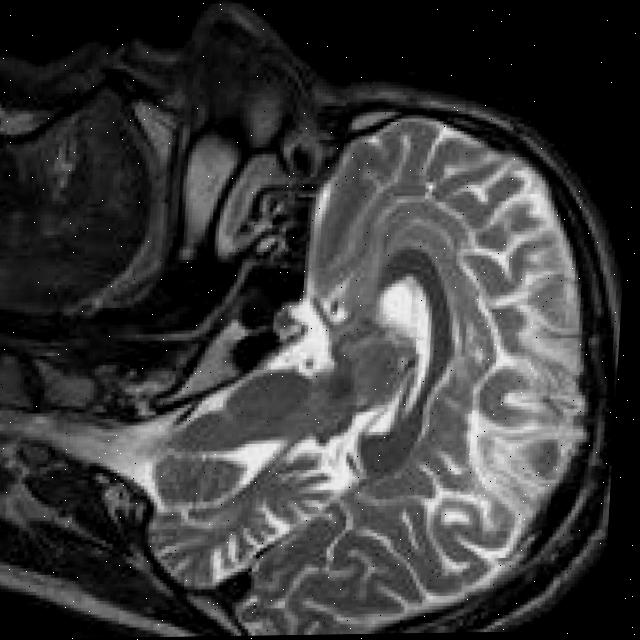NoTumor: (135, 78, 635, 637)
